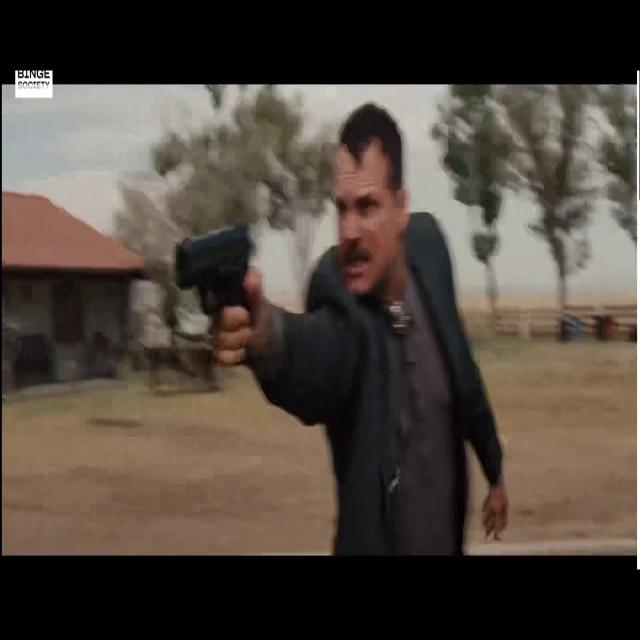weapons: (168, 206, 272, 373)
